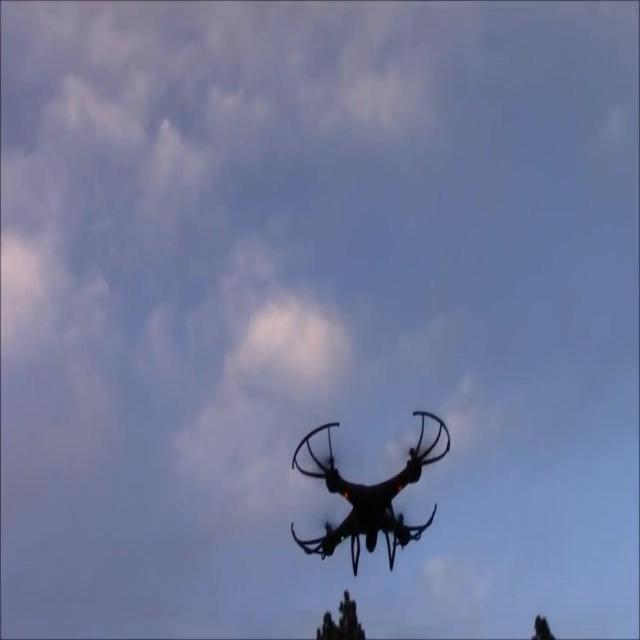drone: (290, 407, 453, 581)
